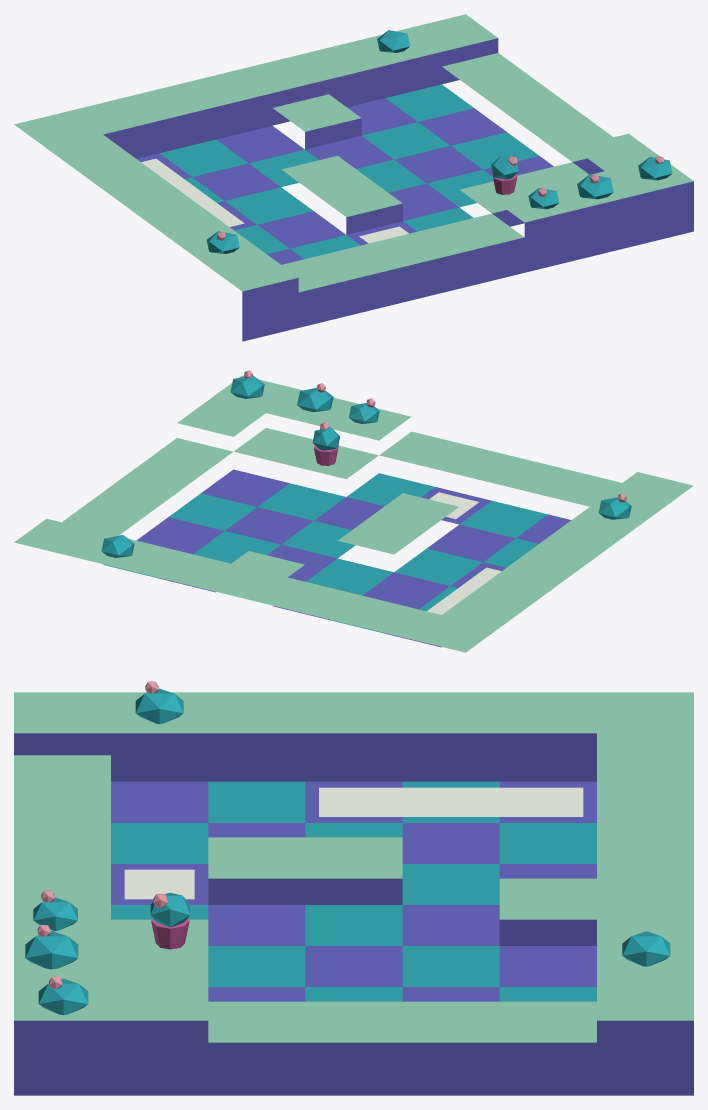
The model's file is room6.glb.
3 renders of one model, top to bottom at view 1: azimuth 30°, elevation 25°; view 2: azimuth 150°, elevation 25°; view 3: azimuth 270°, elevation 25°, orthographic. The views are drawn at different scales.
Parts seen in each view (by area): view 1: Room, Bush0, Bush4, Bush5, Bush1; view 2: Room, Bush0, Bush4, Bush5, Bush1, Bush2, PotLeaf3; view 3: Room, Bush0, Bush4, Bush5, Bush1, Bush2, PotLeaf3, Pot3.
Part boxes in pixels (box(x1,y1,x2,y2)): Room: box(14, 14, 693, 341); Bush0: box(577, 174, 613, 199); Bush4: box(638, 156, 672, 180); Bush5: box(377, 30, 410, 52); Bush1: box(206, 231, 239, 253); Room: box(14, 375, 693, 652); Bush0: box(297, 387, 333, 412); Bush4: box(230, 375, 264, 398); Bush5: box(101, 535, 134, 557); Bush1: box(598, 497, 631, 519); Bush2: box(349, 403, 379, 423); PotLeaf3: box(312, 427, 339, 450); Room: box(14, 692, 693, 1095); Bush0: box(25, 931, 78, 969); Bush4: box(38, 978, 88, 1015); Bush5: box(622, 931, 670, 966); Bush1: box(135, 688, 183, 724); Bush2: box(33, 897, 77, 931); PotLeaf3: box(150, 892, 190, 927); Pot3: box(151, 918, 189, 949).
Size of the model in its own units: 8 by 1.2 by 7.
